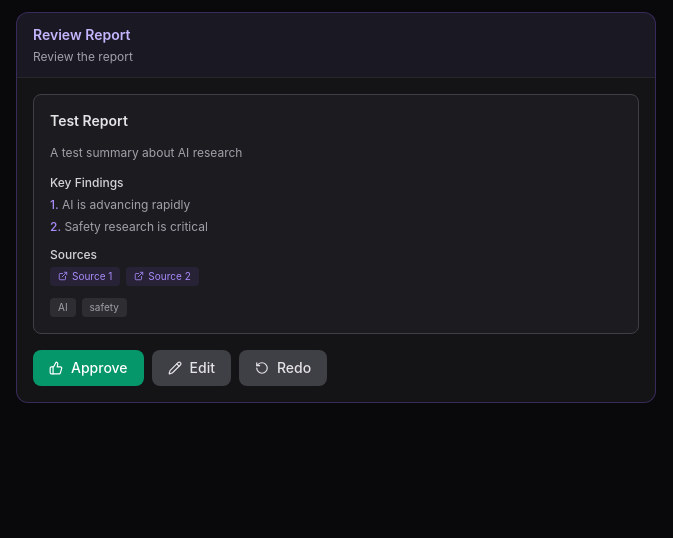
Test: ReviewWidget › shows edit mode when Edit clicked
Click the button "Edit" at (191,368), box top-left (152, 350), bottom-right (231, 386)
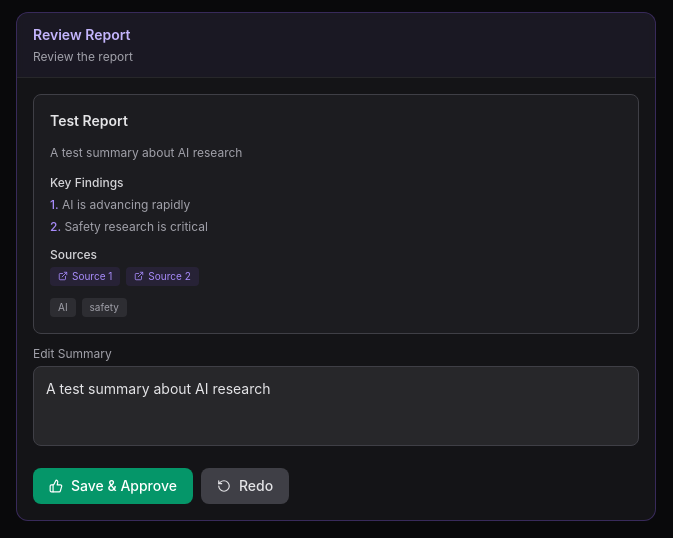
Result: the text "Edit Summary" is shown at top-left (33, 346), bottom-right (112, 360)
Result: the button "Save & Approve" is shown at top-left (33, 468), bottom-right (193, 504)
